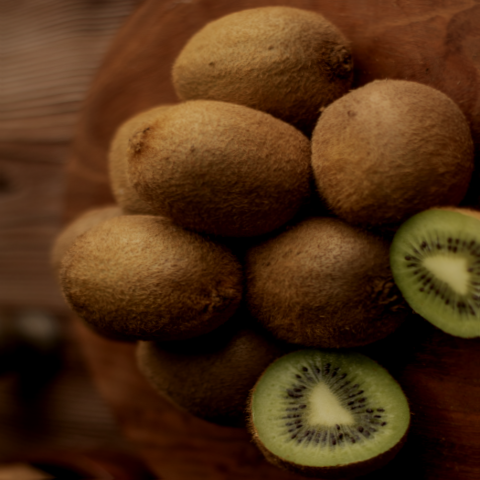kiwi: (308, 63, 471, 250), (119, 95, 307, 255), (237, 212, 420, 367), (48, 211, 238, 356), (168, 3, 374, 131)
